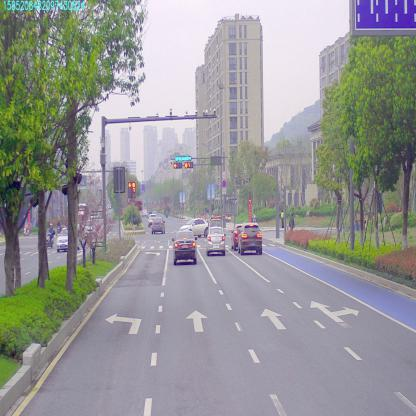traffic-light: (176, 156, 192, 161), (172, 163, 182, 169), (184, 162, 193, 167)
